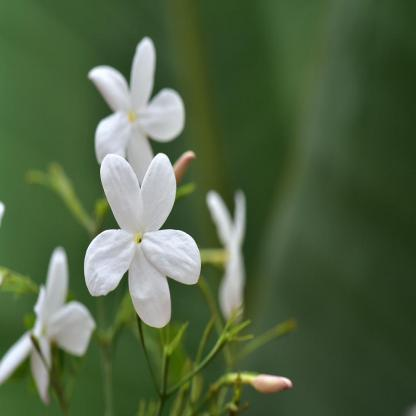Melati: (83, 157, 242, 326), (67, 33, 224, 182), (21, 242, 108, 405), (206, 183, 248, 316)
